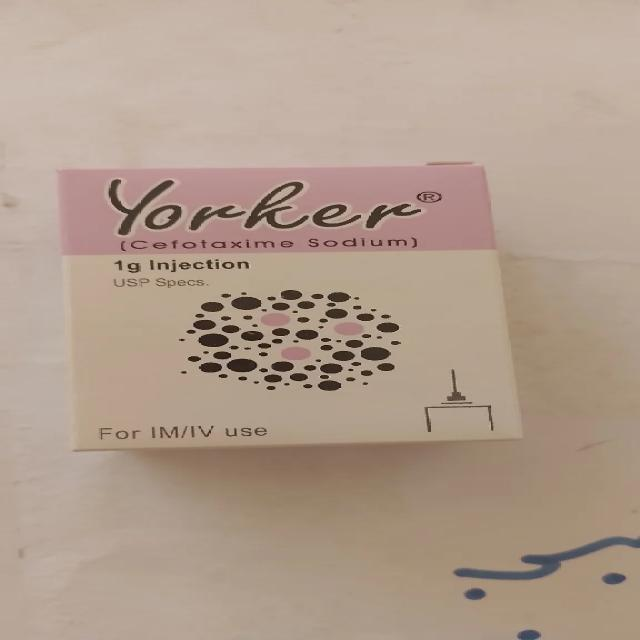drug-name: (104, 177, 428, 233)
